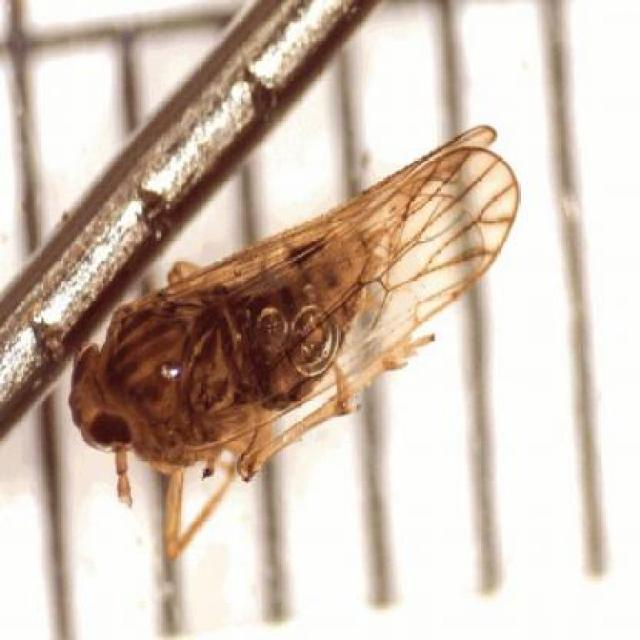brown-planthopper: (66, 123, 520, 482)
